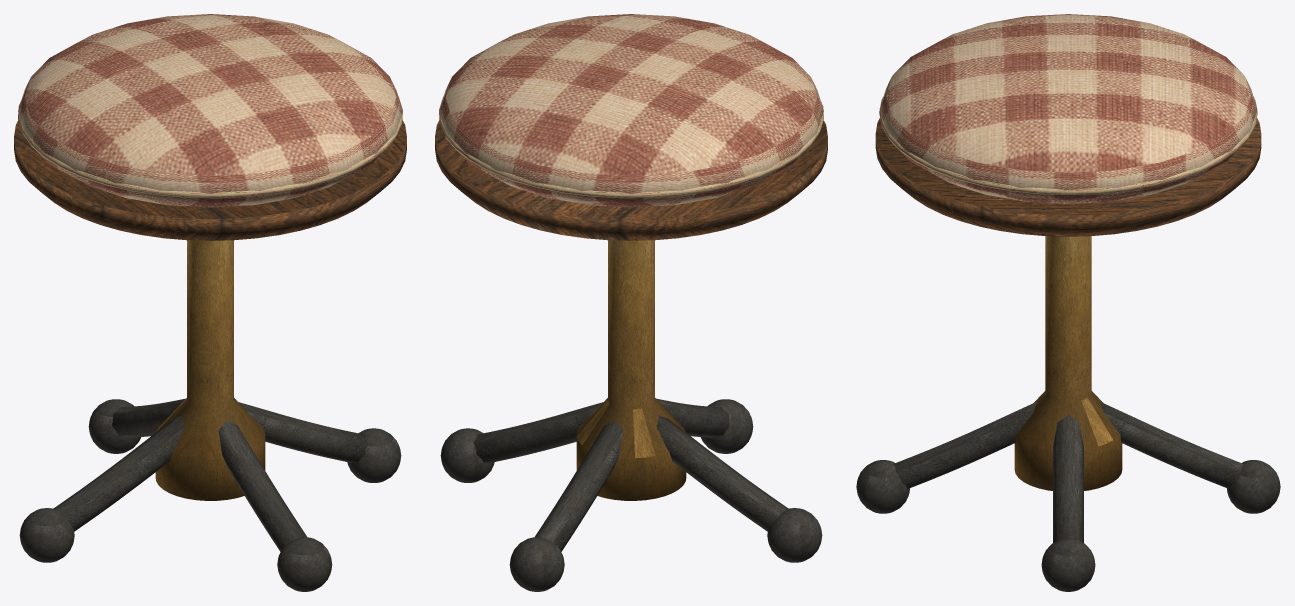
Rendered from SM_MoleControlV2_SwivelStool.fbx.
3 views of the same model, side by side, from view 1: azimuth 30°, elevation 25°; view 2: azimuth 150°, elevation 25°; view 3: azimuth 270°, elevation 25° (orthographic).
Visible parts, largest first — view 1: SM_MoleControlV2_SwivelStool; view 2: SM_MoleControlV2_SwivelStool; view 3: SM_MoleControlV2_SwivelStool.
Part boxes in pixels (x1=…): SM_MoleControlV2_SwivelStool: x1=14, y1=14, x2=406, y2=591; SM_MoleControlV2_SwivelStool: x1=435, y1=14, x2=827, y2=591; SM_MoleControlV2_SwivelStool: x1=856, y1=14, x2=1280, y2=591.
Size of what is drawn, in the model's own units: 55 by 55 by 65.
